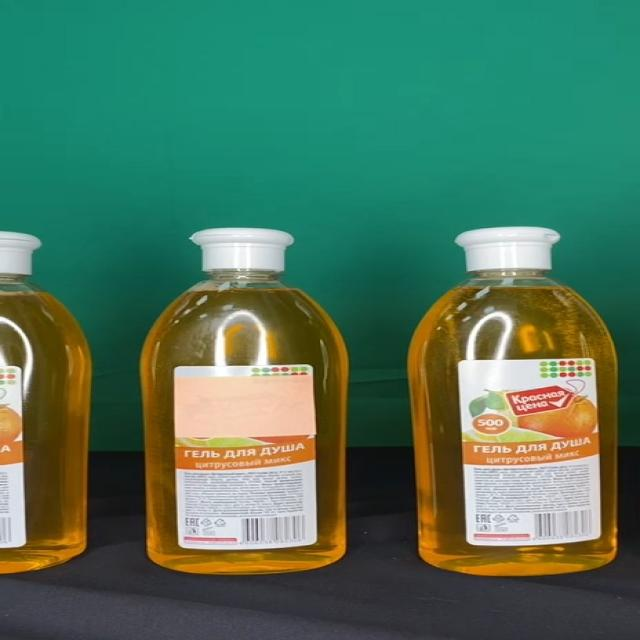Bottle: (406, 227, 620, 577), (143, 228, 350, 572)
Cap: (455, 227, 561, 272), (190, 228, 295, 271)
